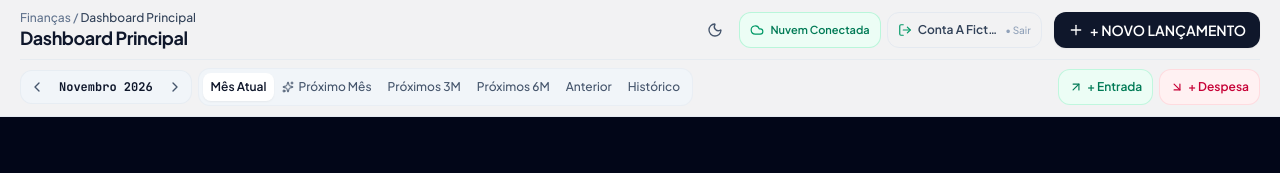
Test case: MVP Express — Correção dos 3 Bloqueadores (100% mocks e dados fictícios) › 7. Falha ao consultar a nuvem bloqueia upload manual no botão do cabeçalho
The width and height of the screenshot is (1280, 173).
Click the button "Nuvem Conectada".
click(810, 30)  # box left=740, top=12, right=881, bottom=48
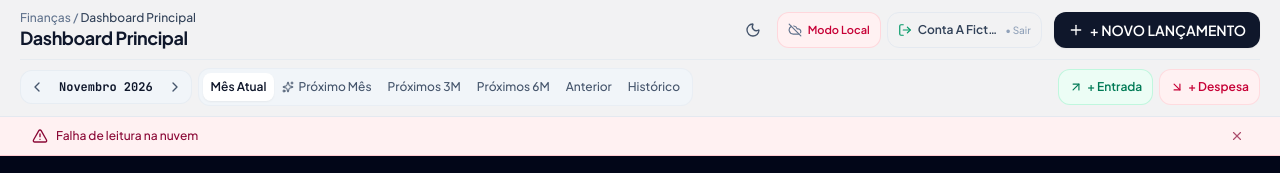
Expected: the message "Falha de leitura na nuvem" is shown, left=0, top=117, right=1279, bottom=156
